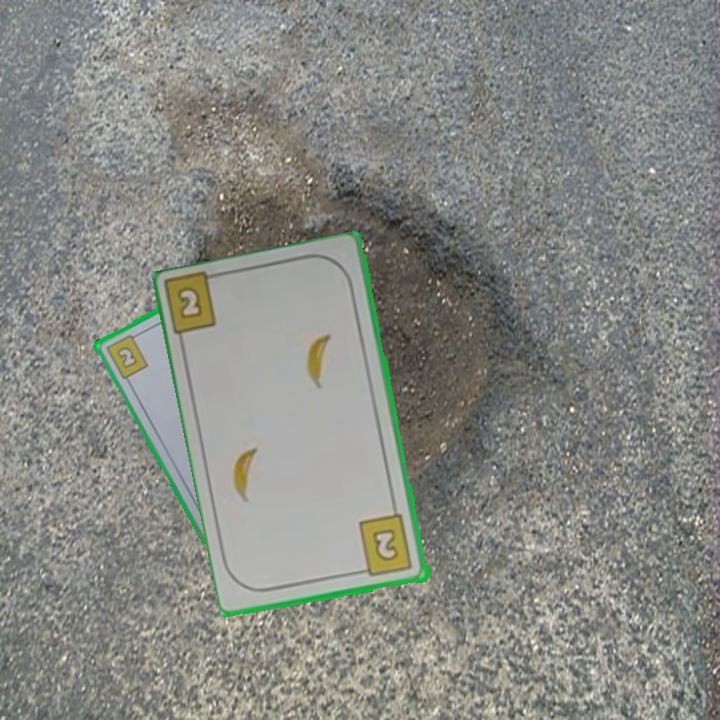2b: (355, 511, 416, 580), (102, 330, 151, 382), (173, 282, 206, 323)
